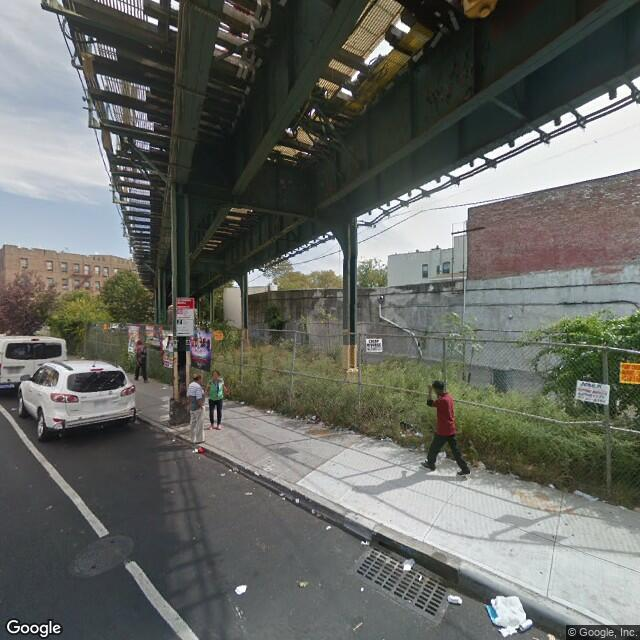litter: (483, 592, 522, 627), (574, 489, 595, 498), (235, 582, 248, 595), (520, 620, 534, 629), (403, 558, 414, 569), (449, 597, 464, 605), (192, 446, 204, 453), (309, 415, 319, 423), (440, 454, 447, 463), (278, 490, 285, 498), (548, 633, 555, 640), (360, 540, 370, 544), (245, 492, 257, 495), (236, 401, 248, 404), (550, 483, 557, 488), (324, 525, 331, 530), (266, 408, 273, 413), (382, 437, 393, 440), (361, 586, 367, 591), (295, 499, 301, 504), (229, 467, 235, 470), (220, 471, 228, 473), (173, 438, 177, 440)
